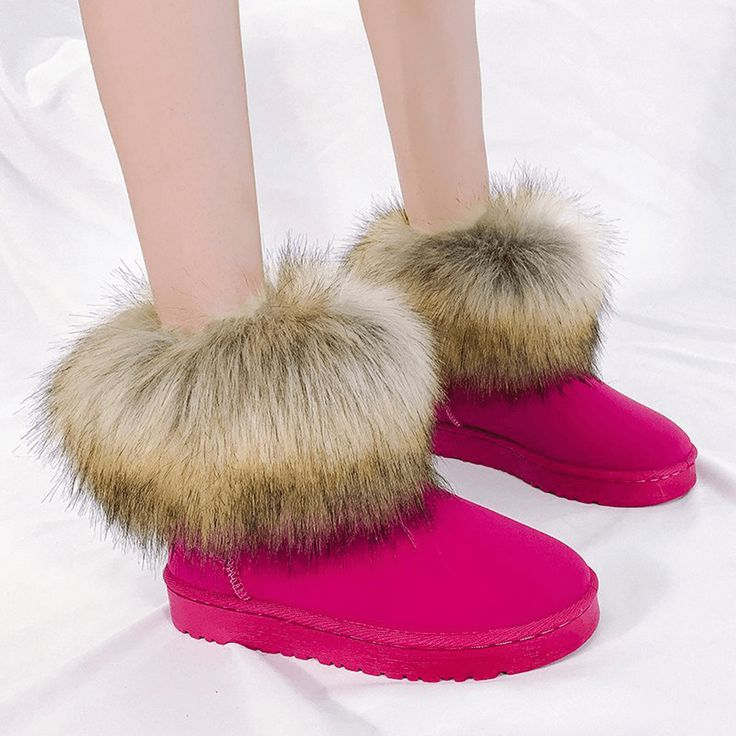gamuza: (163, 374, 697, 637)
